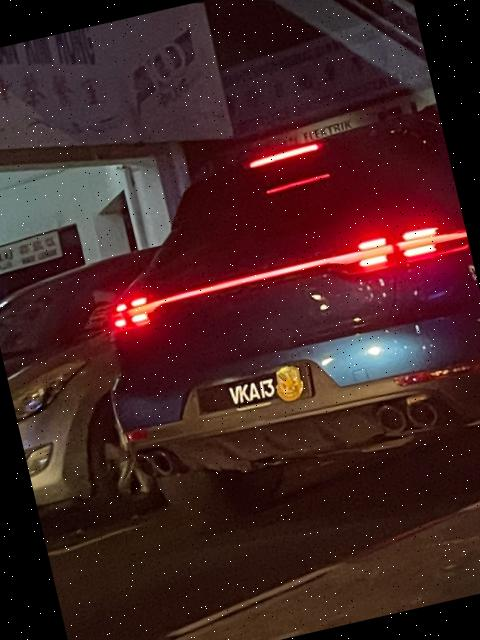License_Plate: (204, 365, 293, 416)
car: (56, 92, 480, 525), (1, 234, 233, 515)
